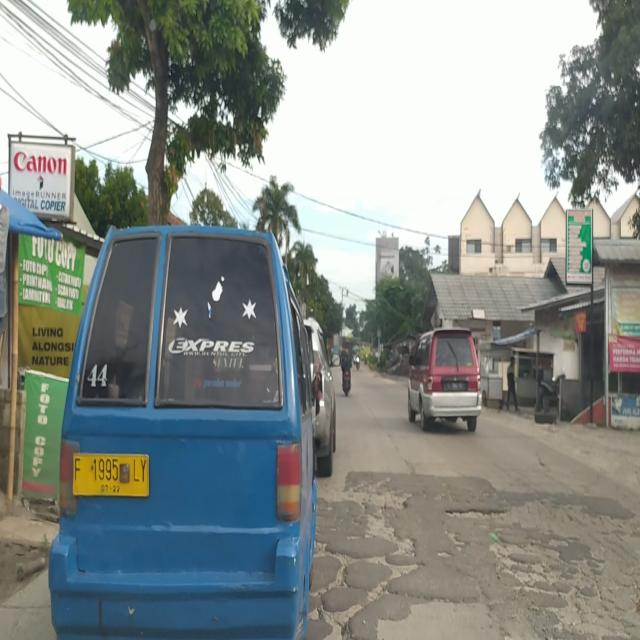Drain Hole: (448, 483, 639, 640), (308, 489, 422, 639)
